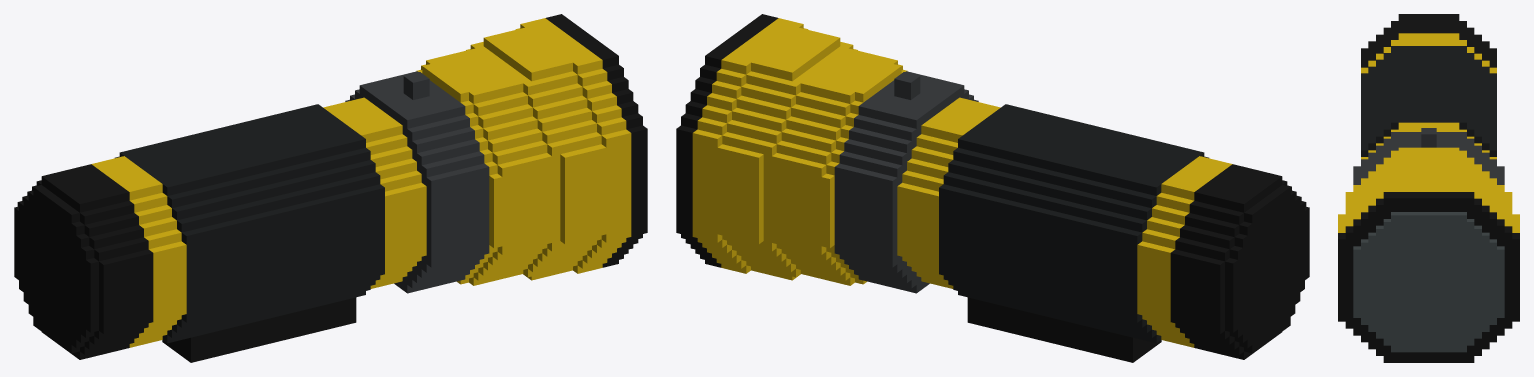
The model's file is variable_diving_flashlight.glb.
3 views of the same model, side by side, from view 1: azimuth 30°, elevation 25°; view 2: azimuth 150°, elevation 25°; view 3: azimuth 270°, elevation 25° (orthographic). The views are drawn at different scales.
Visible parts, largest first — view 1: variable_diving_flashlight:compound; view 2: variable_diving_flashlight:compound; view 3: variable_diving_flashlight:compound.
Part boxes in pixels (x1,y1,x2,y2): variable_diving_flashlight:compound: (14, 14, 647, 362); variable_diving_flashlight:compound: (676, 14, 1309, 362); variable_diving_flashlight:compound: (1338, 14, 1519, 362).
Bounding box in the file's own units: 0.132 × 0.05 × 0.048.
